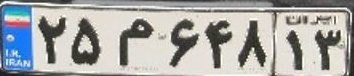character: (114, 14, 156, 70), (163, 13, 201, 71), (201, 14, 235, 72), (236, 14, 270, 70), (69, 14, 104, 67), (35, 11, 67, 66), (312, 27, 344, 73), (283, 28, 309, 74)
